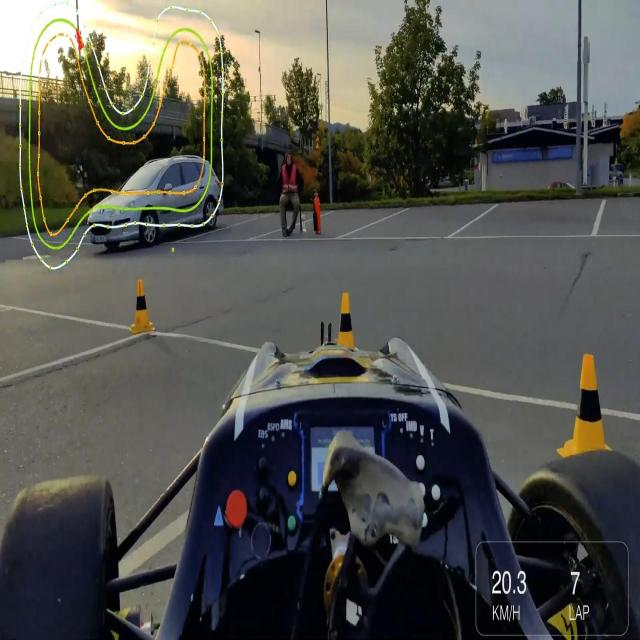yellow_cone: (564, 352, 615, 482), (327, 290, 367, 372), (129, 277, 156, 338)
